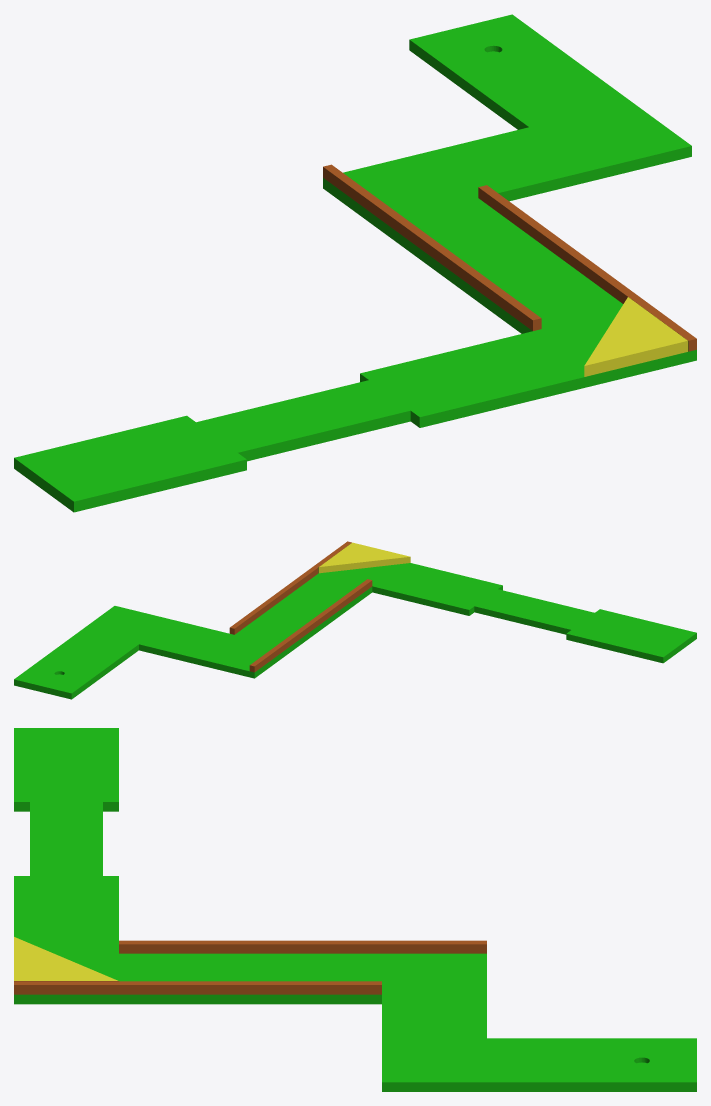
Rendered from Blend_MiniGolf_3D.fbx.
3 renders of one model, top to bottom at view 1: azimuth 30°, elevation 25°; view 2: azimuth 150°, elevation 25°; view 3: azimuth 270°, elevation 25°, orthographic. The views are drawn at different scales.
Visible parts, largest first — view 1: Cube; view 2: Cube; view 3: Cube.
Part boxes in pixels (x1=…): Cube: x1=14, y1=14, x2=696, y2=512; Cube: x1=14, y1=541, x2=696, y2=699; Cube: x1=14, y1=728, x2=696, y2=1091.
Size of the model in its own units: 1596 by 40.35 by 1301.
